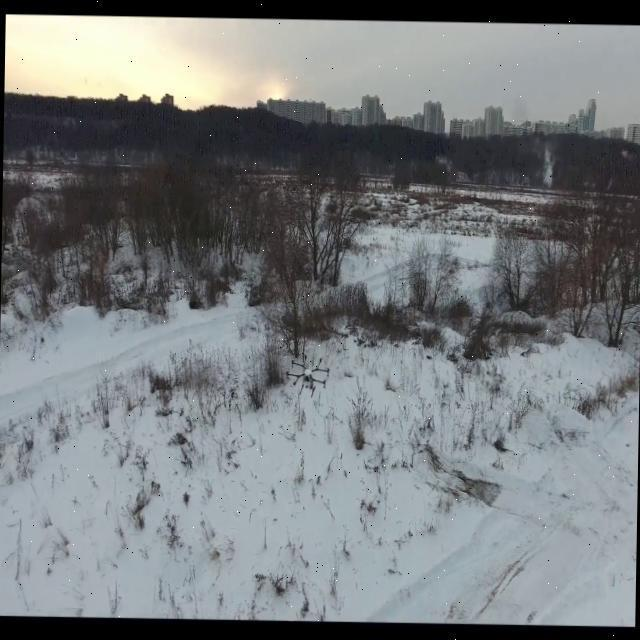Drons: (281, 346, 332, 400)
